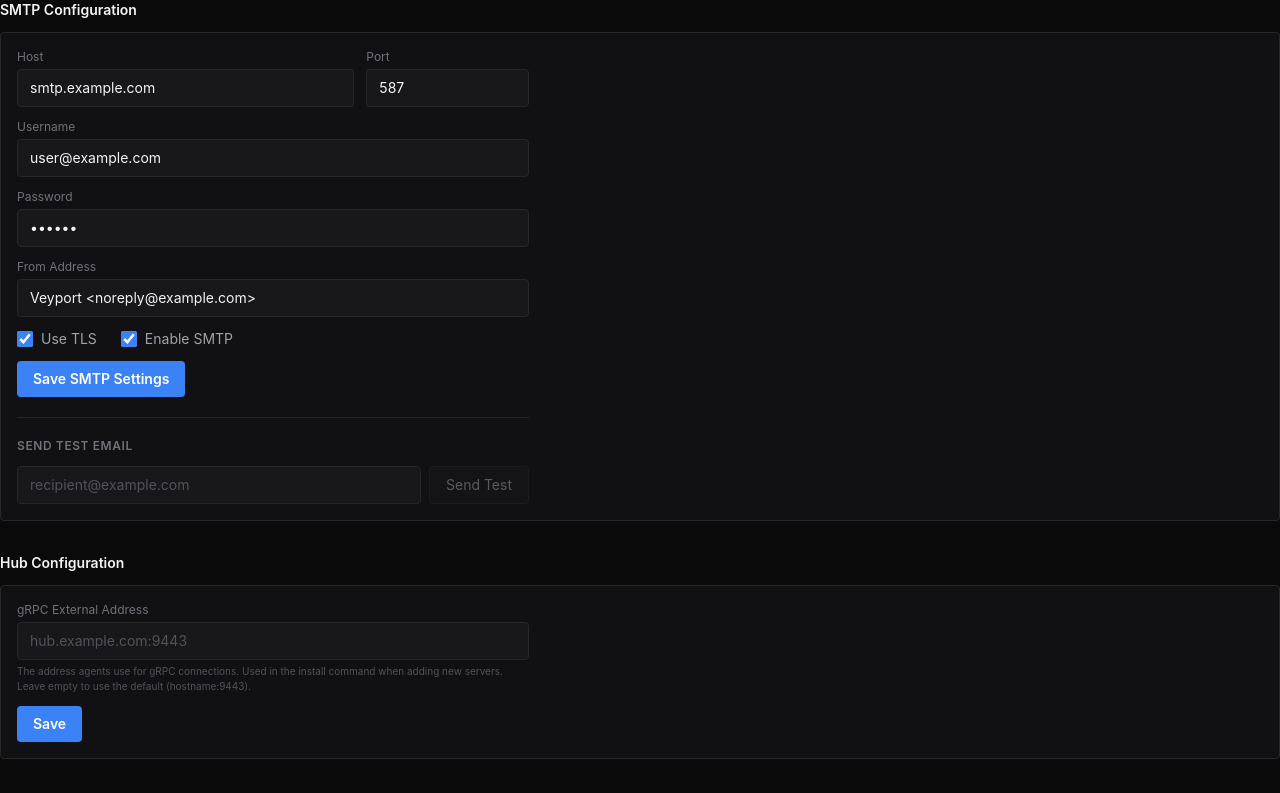
Scenario: NotificationsTab › shows test email success
The image size is (1280, 793).
Type "test@example.com" into the field with placeholder "recipient@example.com" at (219, 485), box [17,466,421,504]
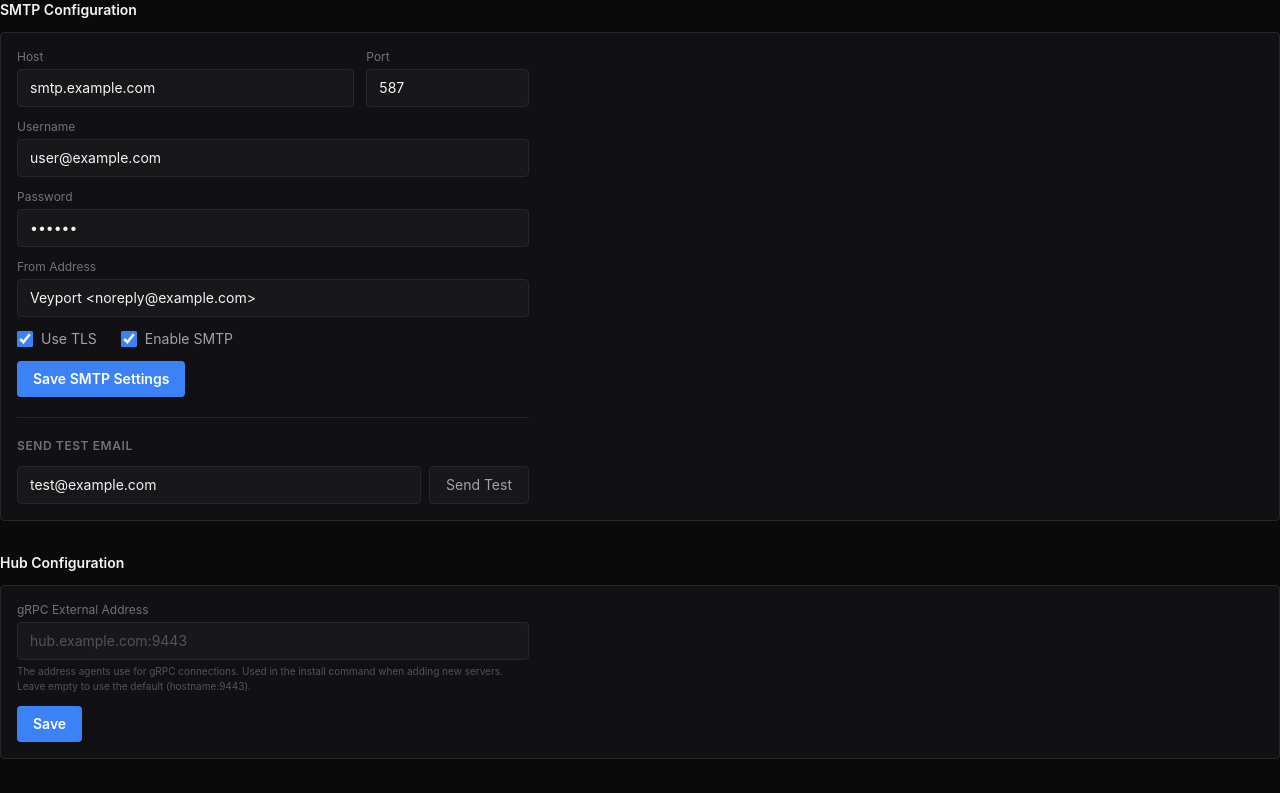
Click the button "Send Test" at (479, 485), box [429,466,529,504]
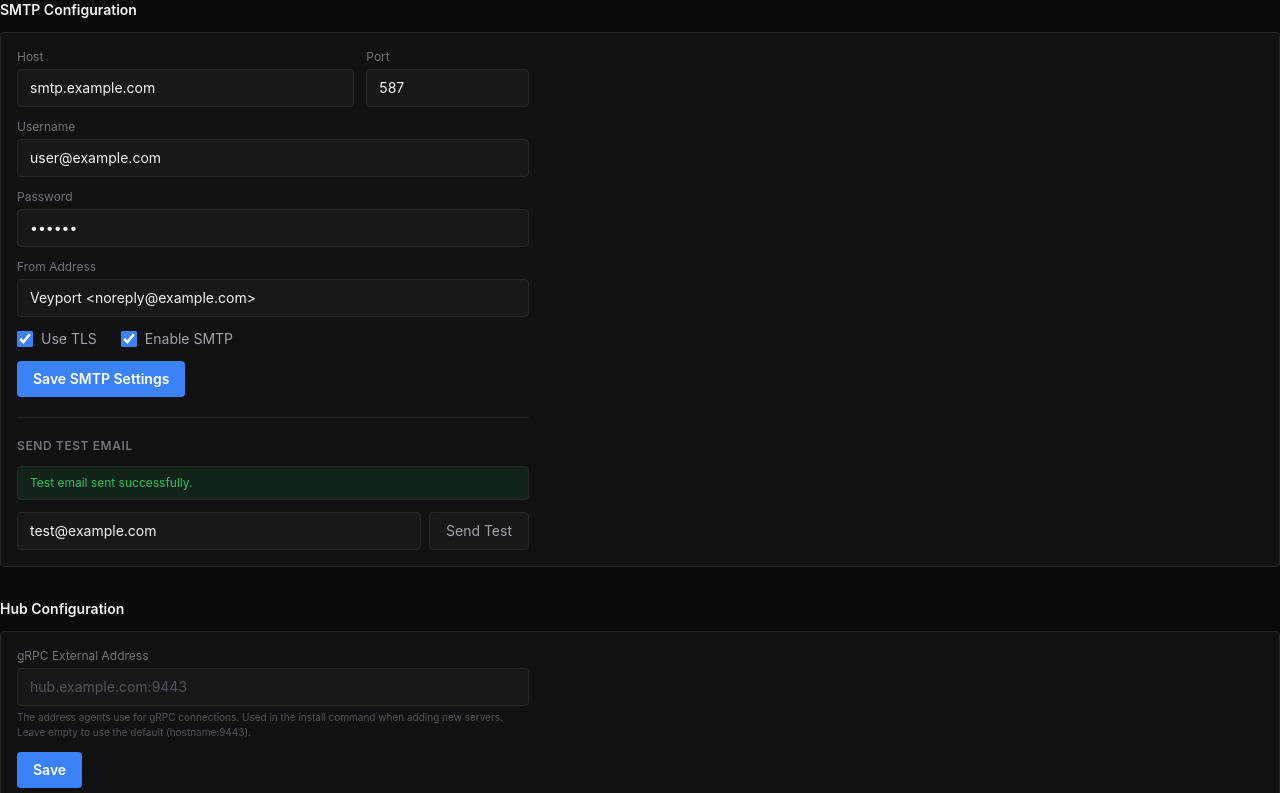
Check: the text "Test email sent successfully." is shown, box [17,466,529,500]
